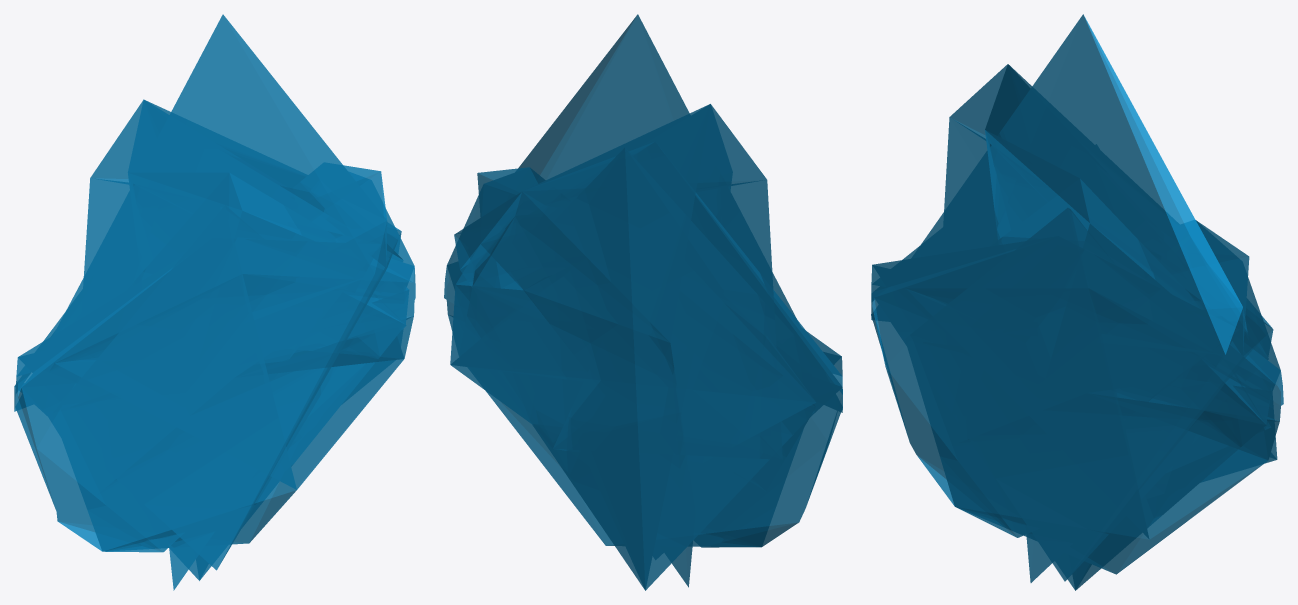
File: Sample3.fbx
The picture shows the model from 3 angles, left to right: view 1: azimuth 30°, elevation 25°; view 2: azimuth 150°, elevation 25°; view 3: azimuth 330°, elevation 25°; orthographic projection. The views are drawn at different scales.
Visible parts, largest first — view 1: Cube; view 2: Cube; view 3: Cube.
Boxes of the visible parts, x1,y1,x2,y2 form: Cube: (14,14,415,590); Cube: (444,14,842,590); Cube: (871,14,1283,590).
Size of the model in its own units: 6.73 by 9.13 by 0.4804.
